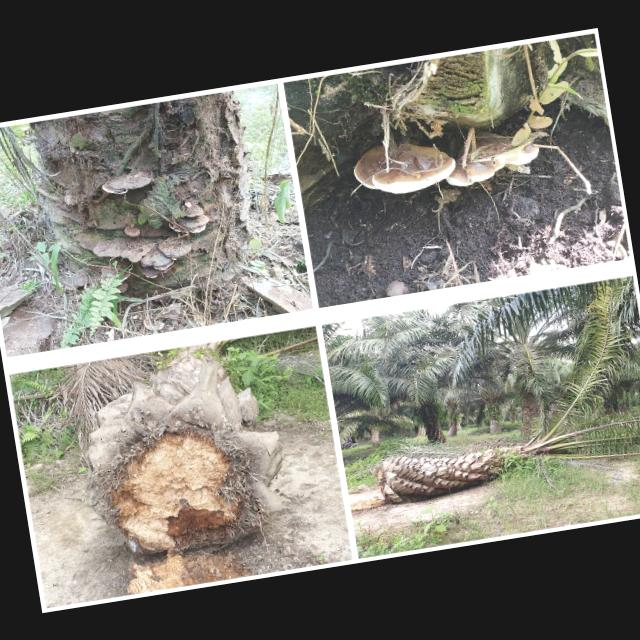ganoderma: (351, 135, 461, 201), (441, 124, 545, 190), (92, 231, 160, 269), (101, 169, 155, 198), (139, 247, 180, 275), (157, 234, 195, 263), (169, 214, 212, 238), (99, 260, 137, 287), (138, 261, 176, 280), (180, 200, 206, 220), (64, 273, 91, 292), (123, 222, 143, 240)
